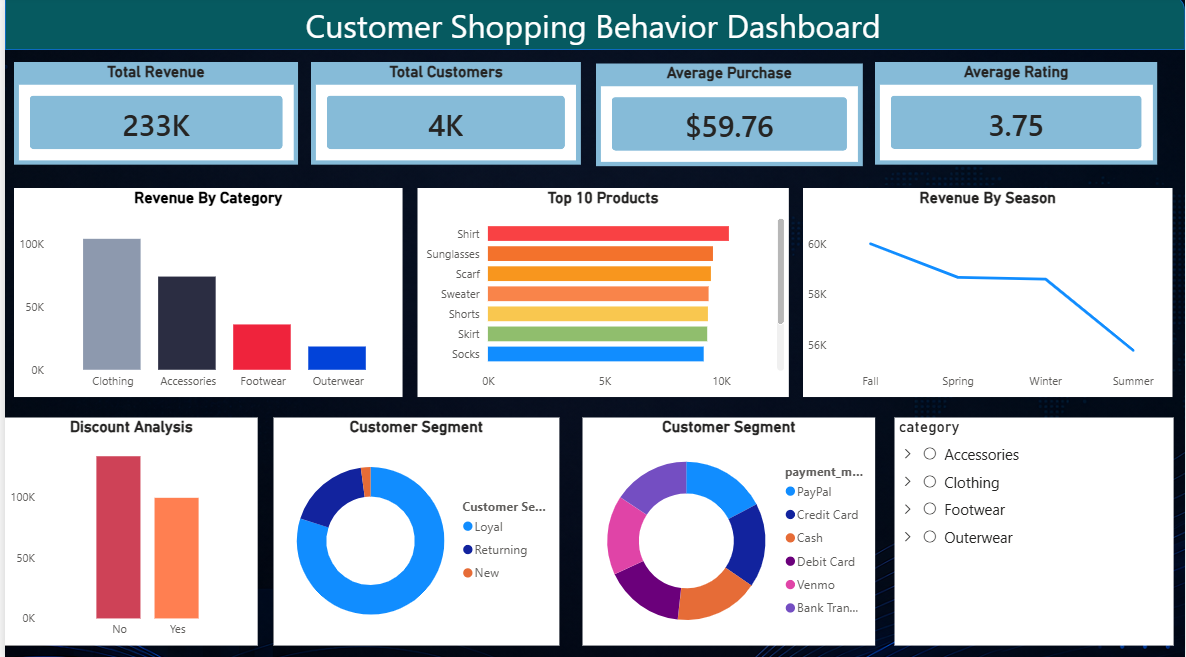

Layout of this report page (visuals, bound fields, positions):
{"tool":"powerbi","page":{"name":"Page 1","canvas":[1280,720],"ordinal":0},"visuals":[{"type":"cardVisual","title":"Total Revenue","fields":{"Data":["Sum(customer_shopping_behaviour customer_shopping.purchase_amount)"]},"box":[9.4,71.8,308,111.5],"z":0},{"type":"cardVisual","title":"Total Customers","fields":{"Data":["customer_shopping_behaviour customer_shopping.Number of Customers"]},"box":[332.6,71.8,292.9,111.5],"z":1000},{"type":"cardVisual","title":"Average Purchase","fields":{"Data":["customer_shopping_behaviour customer_shopping.Average Purchase Amount"]},"box":[640.6,73.7,289.1,111.5],"z":2000},{"type":"cardVisual","title":"Average Rating","fields":{"Data":["customer_shopping_behaviour customer_shopping.Average Review Rating"]},"box":[943,71.8,306.1,111.5],"z":3000},{"type":"clusteredColumnChart","title":"Revenue By Category","fields":{"Category":["customer_shopping_behaviour customer_shopping.category"],"Y":["Sum(customer_shopping_behaviour customer_shopping.purchase_amount)"]},"box":[9.4,207.9,421.4,226.8],"z":4000},{"type":"barChart","title":"Top 10 Products","fields":{"Category":["customer_shopping_behaviour customer_shopping.item_purchased"],"Y":["Sum(customer_shopping_behaviour customer_shopping.purchase_amount)"]},"box":[447.9,207.9,402.5,226.8],"z":5000},{"type":"donutChart","title":"Customer Segment","fields":{"Category":["customer_shopping_behaviour customer_shopping.Customer Segment"],"Y":["CountNonNull(customer_shopping_behaviour customer_shopping.customer_id)"]},"box":[291,457.3,309.9,247.6],"z":6000},{"type":"lineChart","title":"Revenue By Season","fields":{"Category":["customer_shopping_behaviour customer_shopping.season"],"Y":["Sum(customer_shopping_behaviour customer_shopping.purchase_amount)"]},"box":[865.5,207.9,400.6,226.8],"z":7000},{"type":"donutChart","title":"Customer Segment","fields":{"Y":["CountNonNull(customer_shopping_behaviour customer_shopping.customer_id)"],"Category":["customer_shopping_behaviour customer_shopping.payment_method"]},"box":[625.5,457.3,317.5,247.6],"z":8000},{"type":"clusteredColumnChart","title":"Discount Analysis","fields":{"Category":["customer_shopping_behaviour customer_shopping.discount_applied"],"Y":["Sum(customer_shopping_behaviour customer_shopping.purchase_amount)"]},"box":[0,457.3,274,247.6],"z":9000},{"type":"listSlicer","fields":{"Values":["customer_shopping_behaviour customer_shopping.category","customer_shopping_behaviour customer_shopping.season"]},"box":[963.8,457.3,302.4,247.6],"z":10000},{"type":"shape","box":[0,0,1279.4,58.6],"z":11000}]}

Visuals, with their boxes in screenshot pixels (x1, y1, x2, y2), scaled from the page's 1280x720 canvas onto the 1186x657 screenshot:
"Total Revenue" cardVisual: (9, 66, 294, 167)
"Total Customers" cardVisual: (308, 66, 580, 167)
"Average Purchase" cardVisual: (594, 67, 861, 169)
"Average Rating" cardVisual: (874, 66, 1157, 167)
"Revenue By Category" clusteredColumnChart: (9, 190, 399, 397)
"Top 10 Products" barChart: (415, 190, 788, 397)
"Customer Segment" donutChart: (270, 417, 557, 643)
"Revenue By Season" lineChart: (802, 190, 1173, 397)
"Customer Segment" donutChart: (580, 417, 874, 643)
"Discount Analysis" clusteredColumnChart: (0, 417, 254, 643)
listSlicer - customer_shopping_behaviour customer_shopping.category x customer_shopping_behaviour customer_shopping.season: (893, 417, 1173, 643)
shape: (0, 0, 1185, 53)
